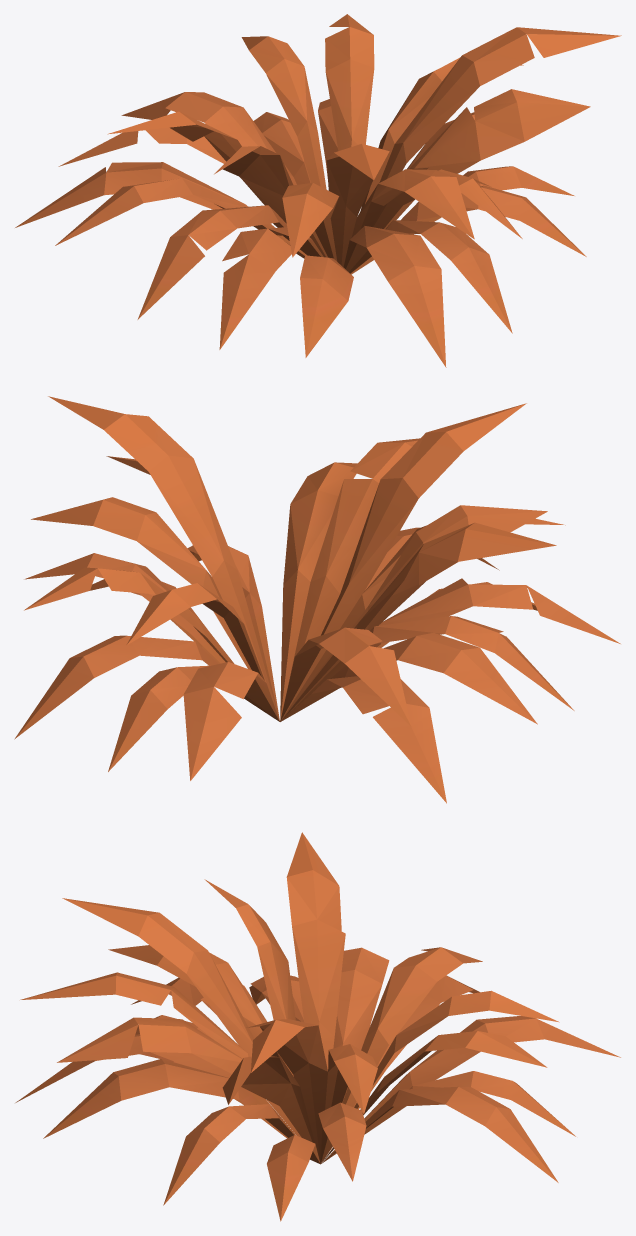
The model's file is bush_fern.glb.
3 views of the same model, one above another, from view 1: azimuth 30°, elevation 25°; view 2: azimuth 150°, elevation 25°; view 3: azimuth 270°, elevation 25° (orthographic). The views are drawn at different scales.
Parts seen in each view (by area): view 1: Plant_4_A; view 2: Plant_4_A; view 3: Plant_4_A.
Boxes of the visible parts, <box> form: Plant_4_A: <box>15,14,621,367</box>; Plant_4_A: <box>14,396,620,803</box>; Plant_4_A: <box>15,832,620,1221</box>.
Size of the model in its own units: 0.7775 by 0.3285 by 0.806.
1 material, 1 textured.
